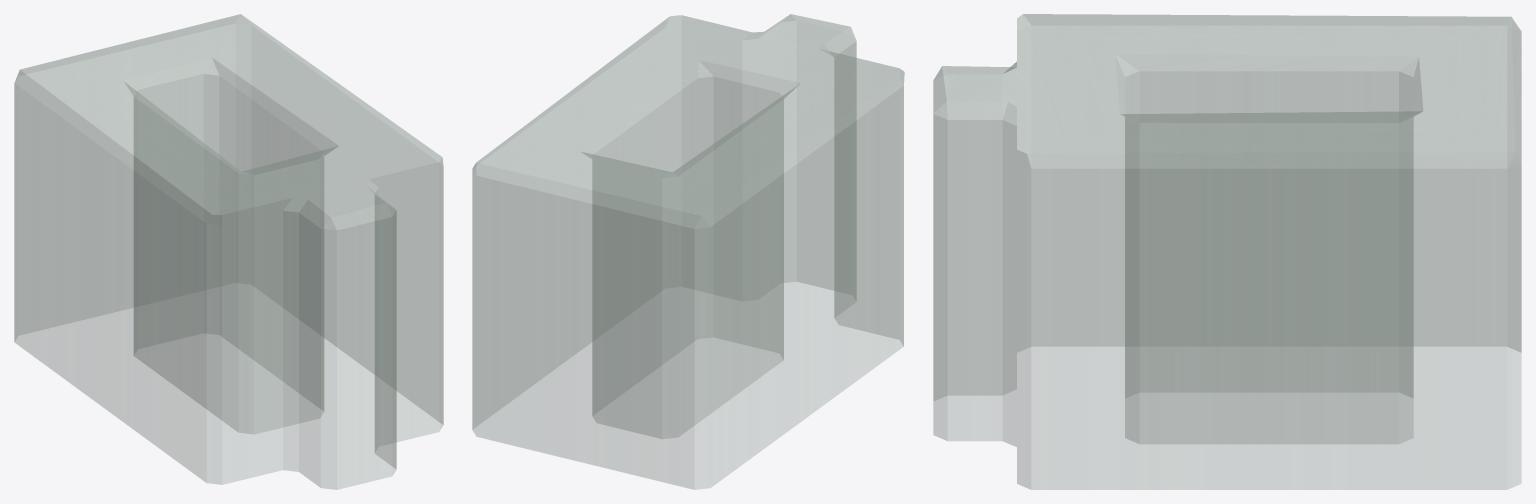
3 views of the same model, side by side, from view 1: azimuth 30°, elevation 25°; view 2: azimuth 150°, elevation 25°; view 3: azimuth 270°, elevation 25° (orthographic). The views are drawn at different scales.
Visible parts, largest first — view 1: Q; view 2: Q; view 3: Q.
Boxes of the visible parts, x1=… form: Q: x1=14, y1=14, x2=443, y2=489; Q: x1=472, y1=14, x2=904, y2=489; Q: x1=933, y1=14, x2=1521, y2=489.
Bounding box in the file's own units: 0.4041 × 0.44 × 0.7016.
Materials: 1 (1 with a texture image).
